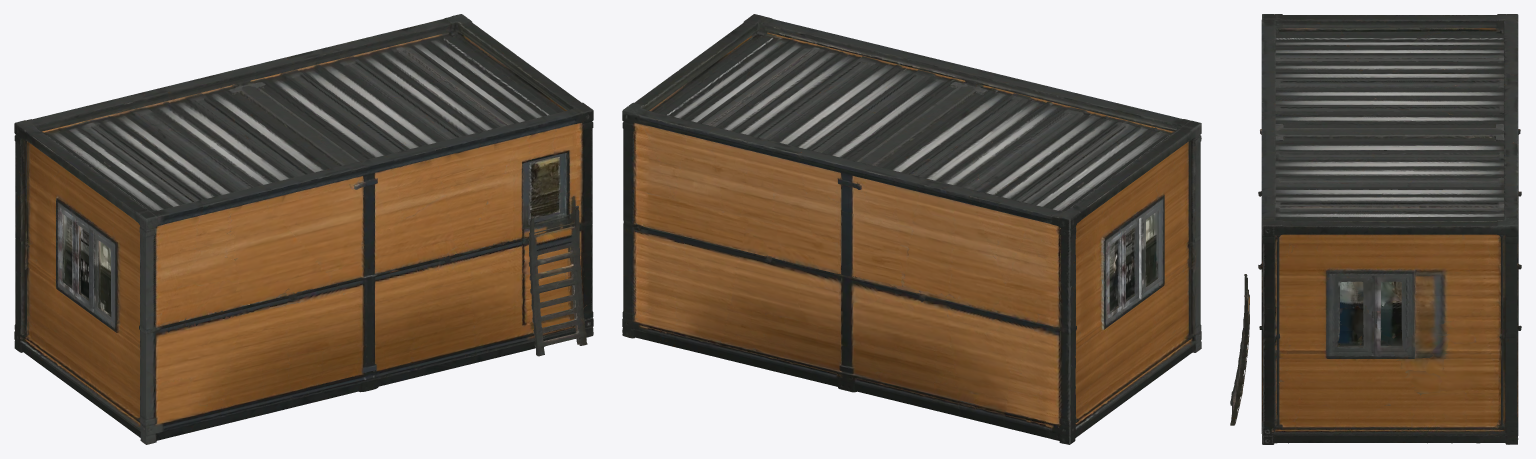
Rendered from folding-homes.glb.
The picture shows the model from 3 angles, left to right: view 1: azimuth 30°, elevation 25°; view 2: azimuth 150°, elevation 25°; view 3: azimuth 270°, elevation 25°; orthographic projection. The views are drawn at different scales.
Size of the model in its own units: 1.9 by 0.9195 by 1.1.
1 material, 1 textured.
